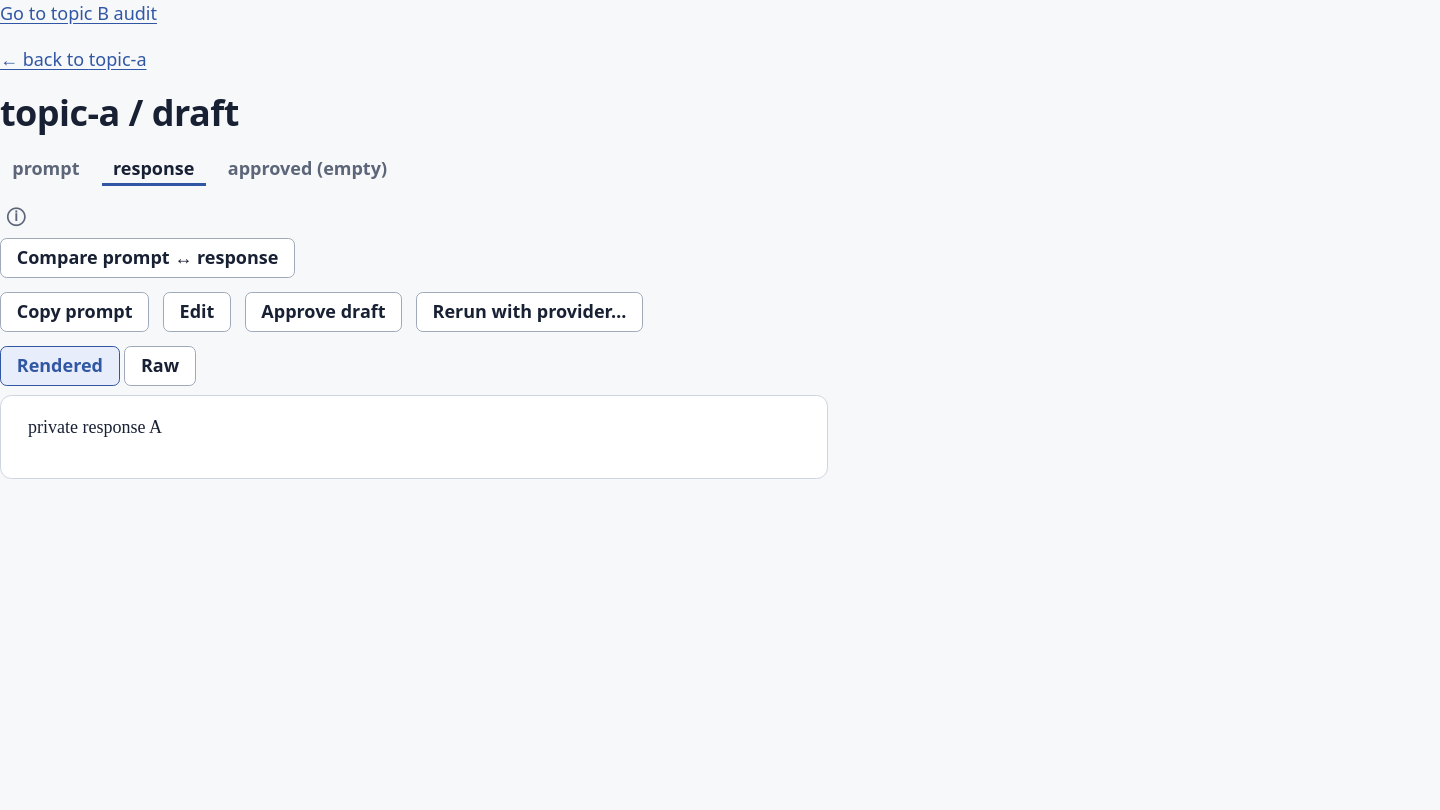
StageViewerPage › clears route-scoped content and rejects a mismatched stage response after navigation
The image size is (1440, 810).
Step 1. Click the button "Edit" → (197, 312), box [163,292,231,332]
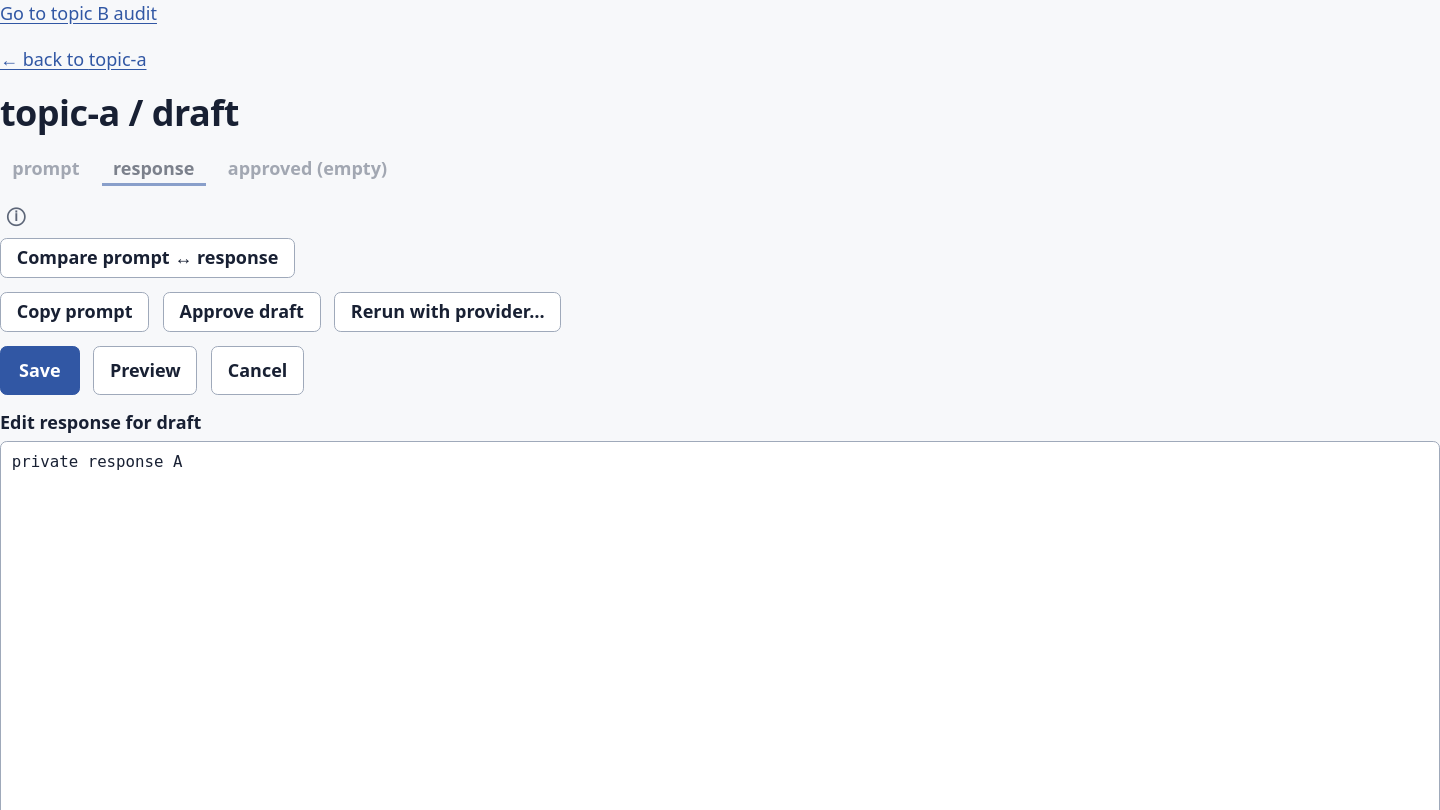
Step 2. Click the link "Go to topic B audit" → (78, 13), box [0,1,157,25]
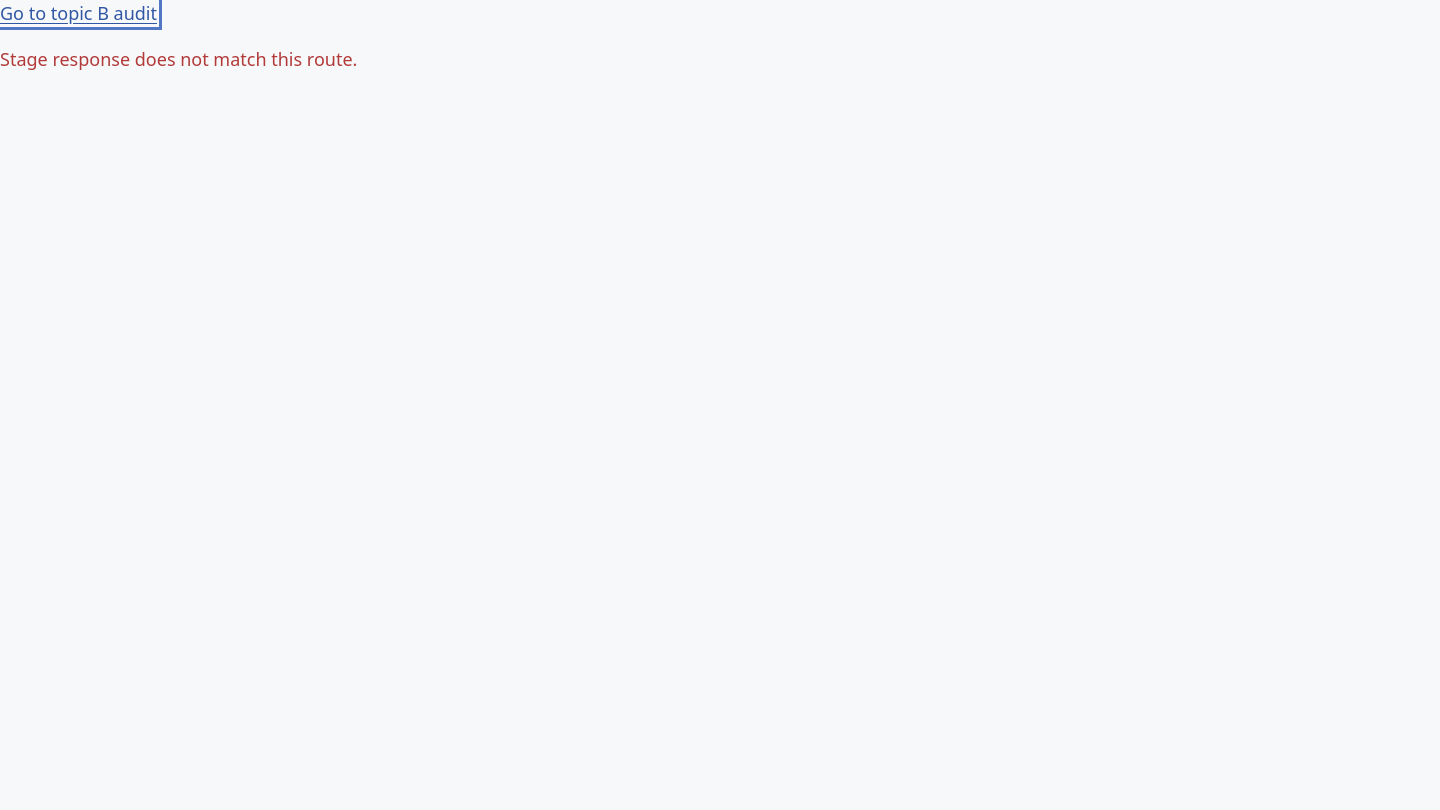
Expected: the text "private response A" is not shown
Expected: the message reads "Stage response does not match this route.", [0,47,357,71]
